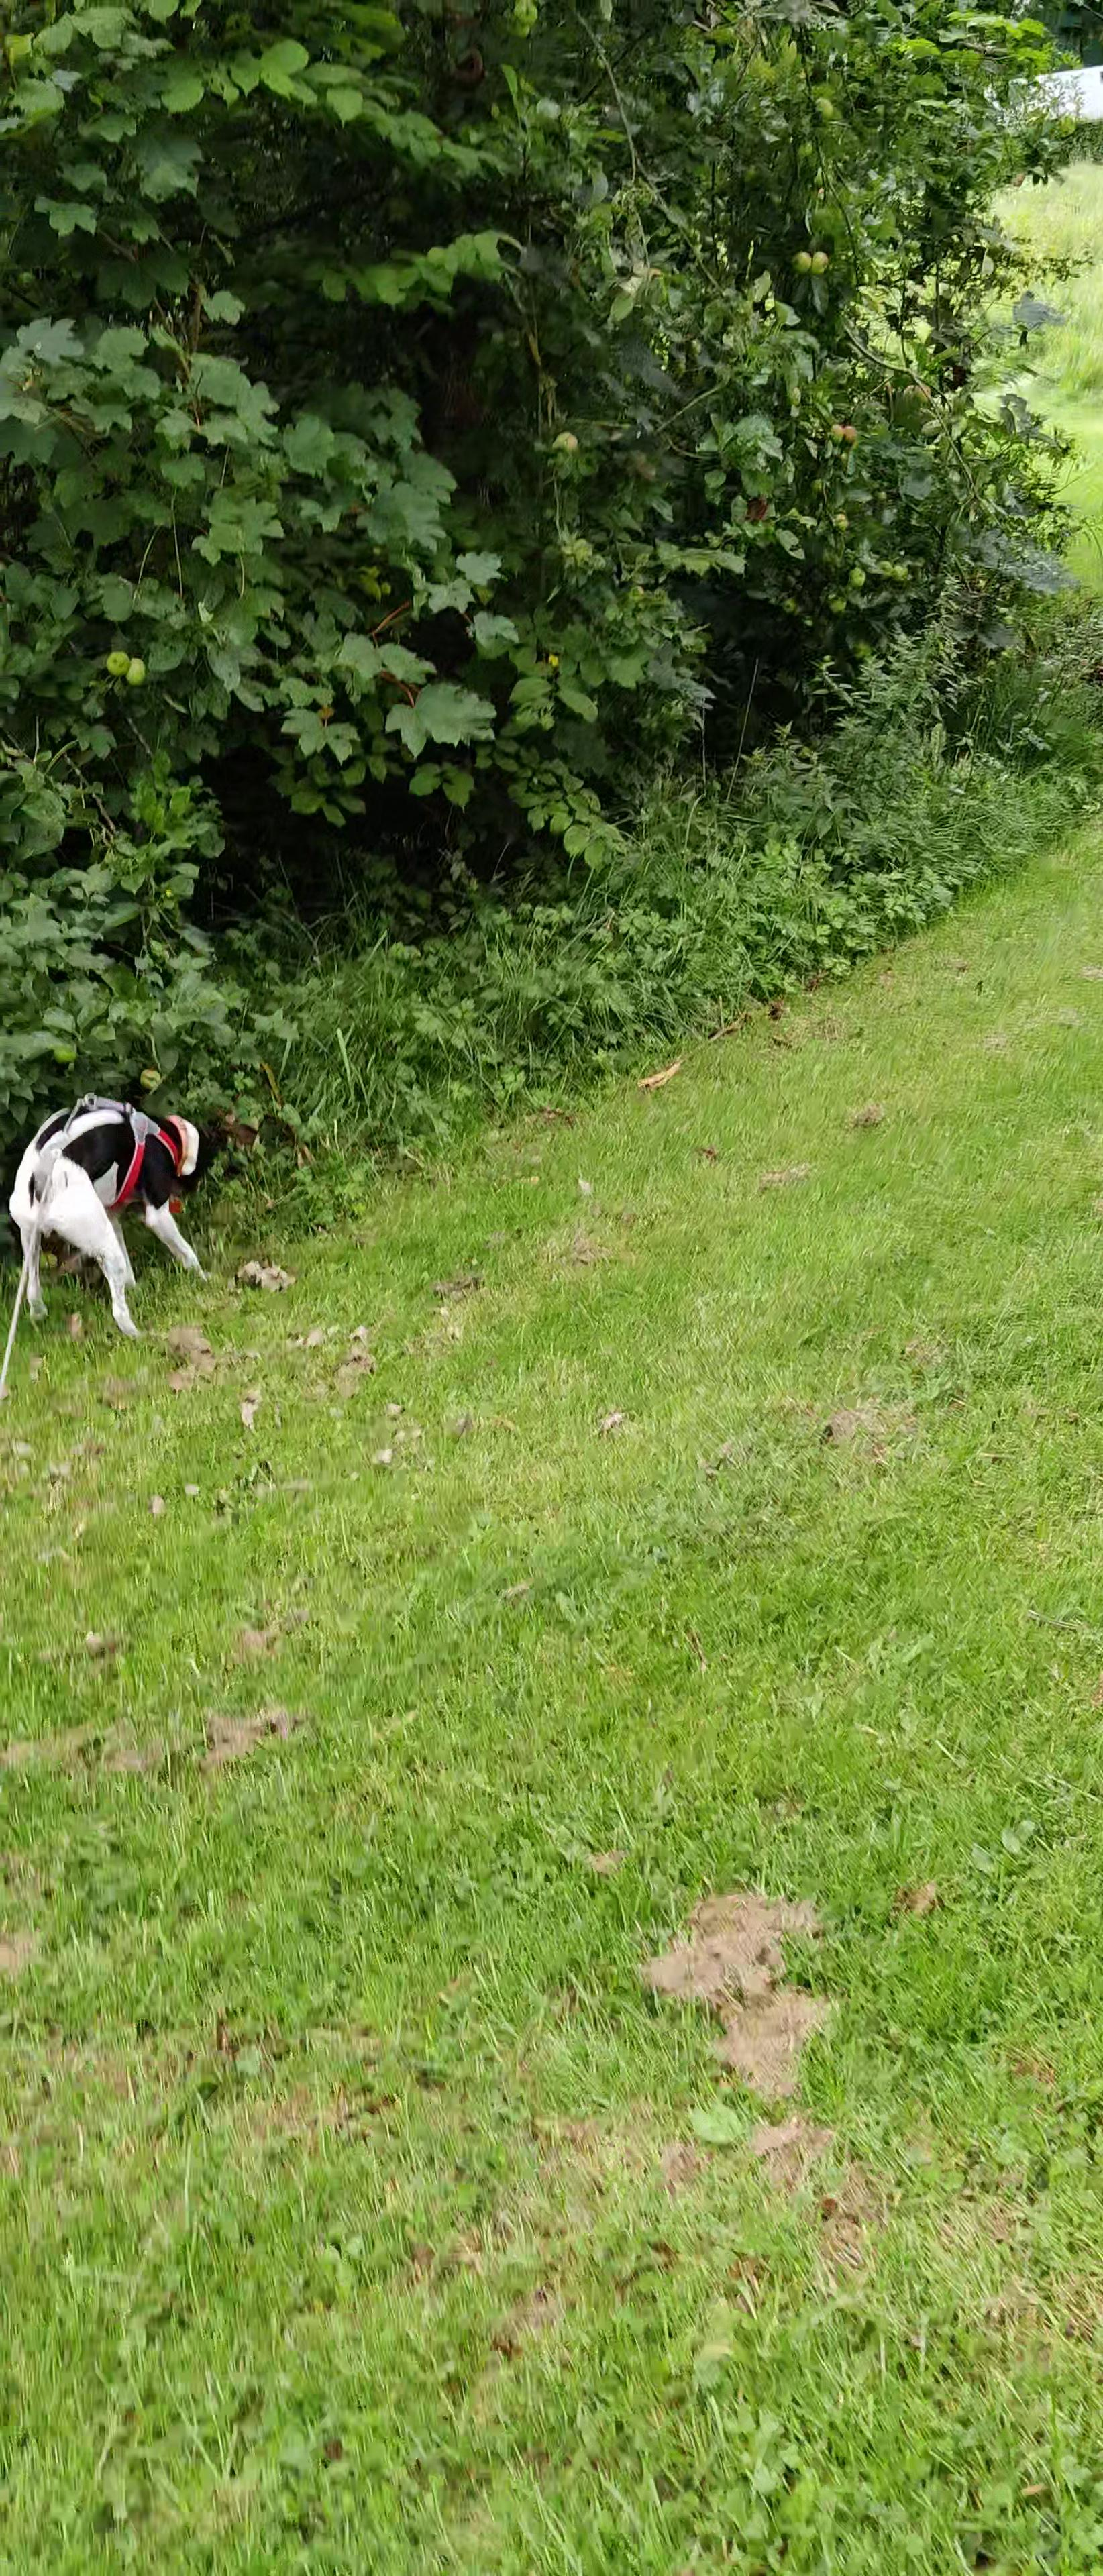Dog: (7, 1073, 228, 1347)
